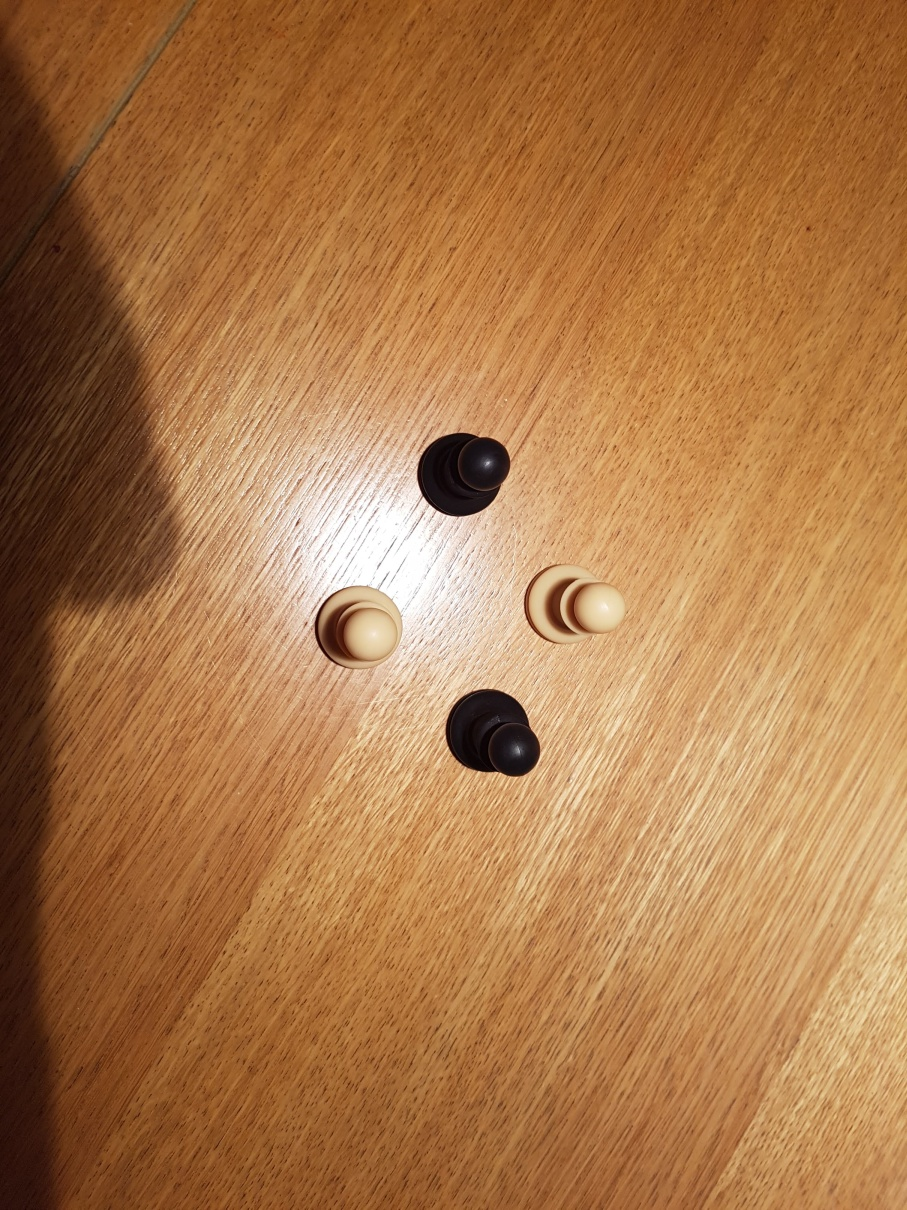chess_pawn: (445, 688, 543, 780), (525, 563, 625, 645), (416, 430, 513, 514), (315, 584, 404, 670)
